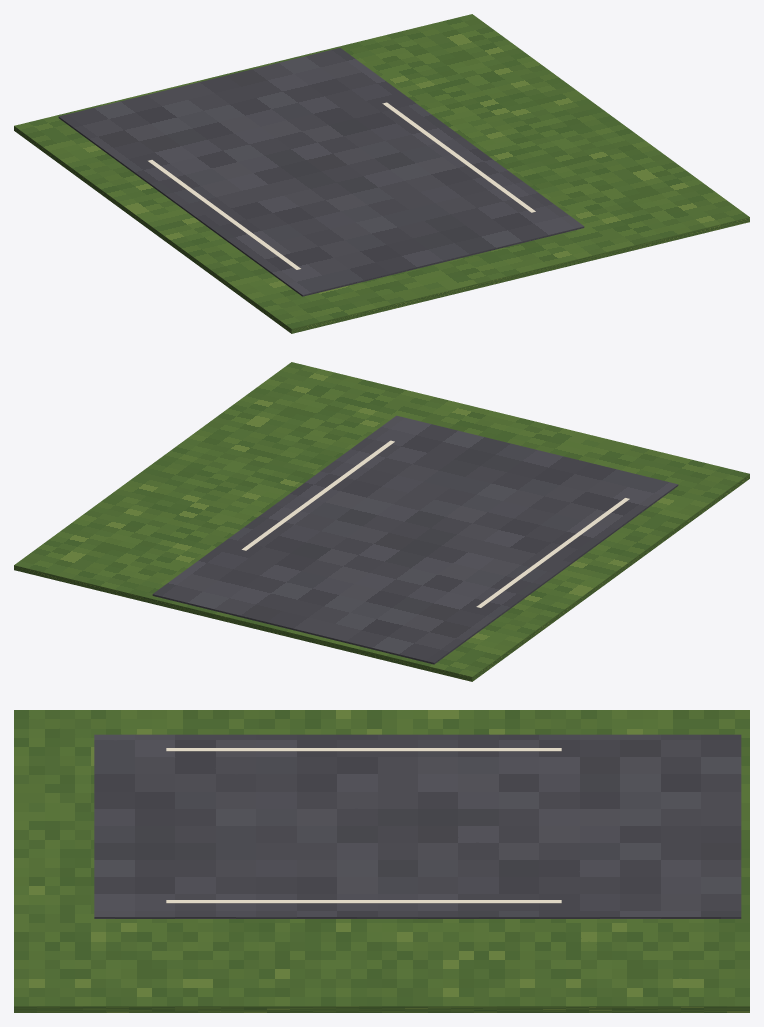
File: structure.glb
The picture shows the model from 3 angles, top to bottom: view 1: azimuth 30°, elevation 25°; view 2: azimuth 150°, elevation 25°; view 3: azimuth 270°, elevation 25°; orthographic projection. The views are drawn at different scales.
Visible parts, largest first — view 1: Box2, Box1, Box4, Box3; view 2: Box2, Box1, Box4, Box3; view 3: Box2, Box1, Box3, Box4.
Part boxes in pixels (x1,y1,x2,y2): Box2: [58, 48, 584, 296]; Box1: [14, 14, 749, 333]; Box4: [382, 102, 535, 212]; Box3: [148, 160, 300, 269]; Box2: [152, 415, 678, 664]; Box1: [14, 362, 749, 681]; Box4: [241, 440, 394, 550]; Box3: [476, 498, 629, 607]; Box2: [94, 734, 741, 918]; Box1: [14, 710, 749, 1012]; Box3: [166, 748, 561, 751]; Box4: [166, 900, 561, 903].
Bounding box in the file's own units: 9.76 × 0.136 × 10.24.
3 materials, 2 textured.
